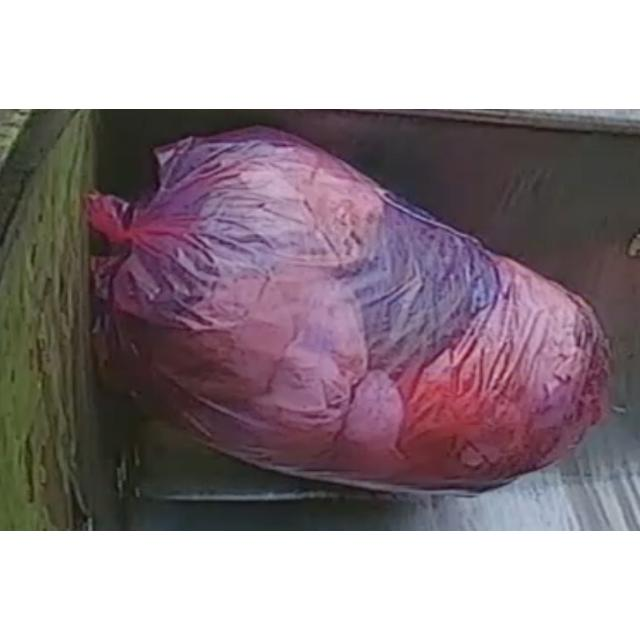other_trashbag: (88, 126, 608, 490)
